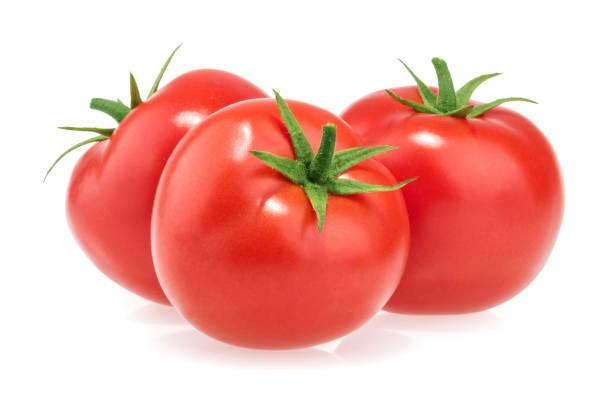Tomato: (63, 59, 569, 347)
